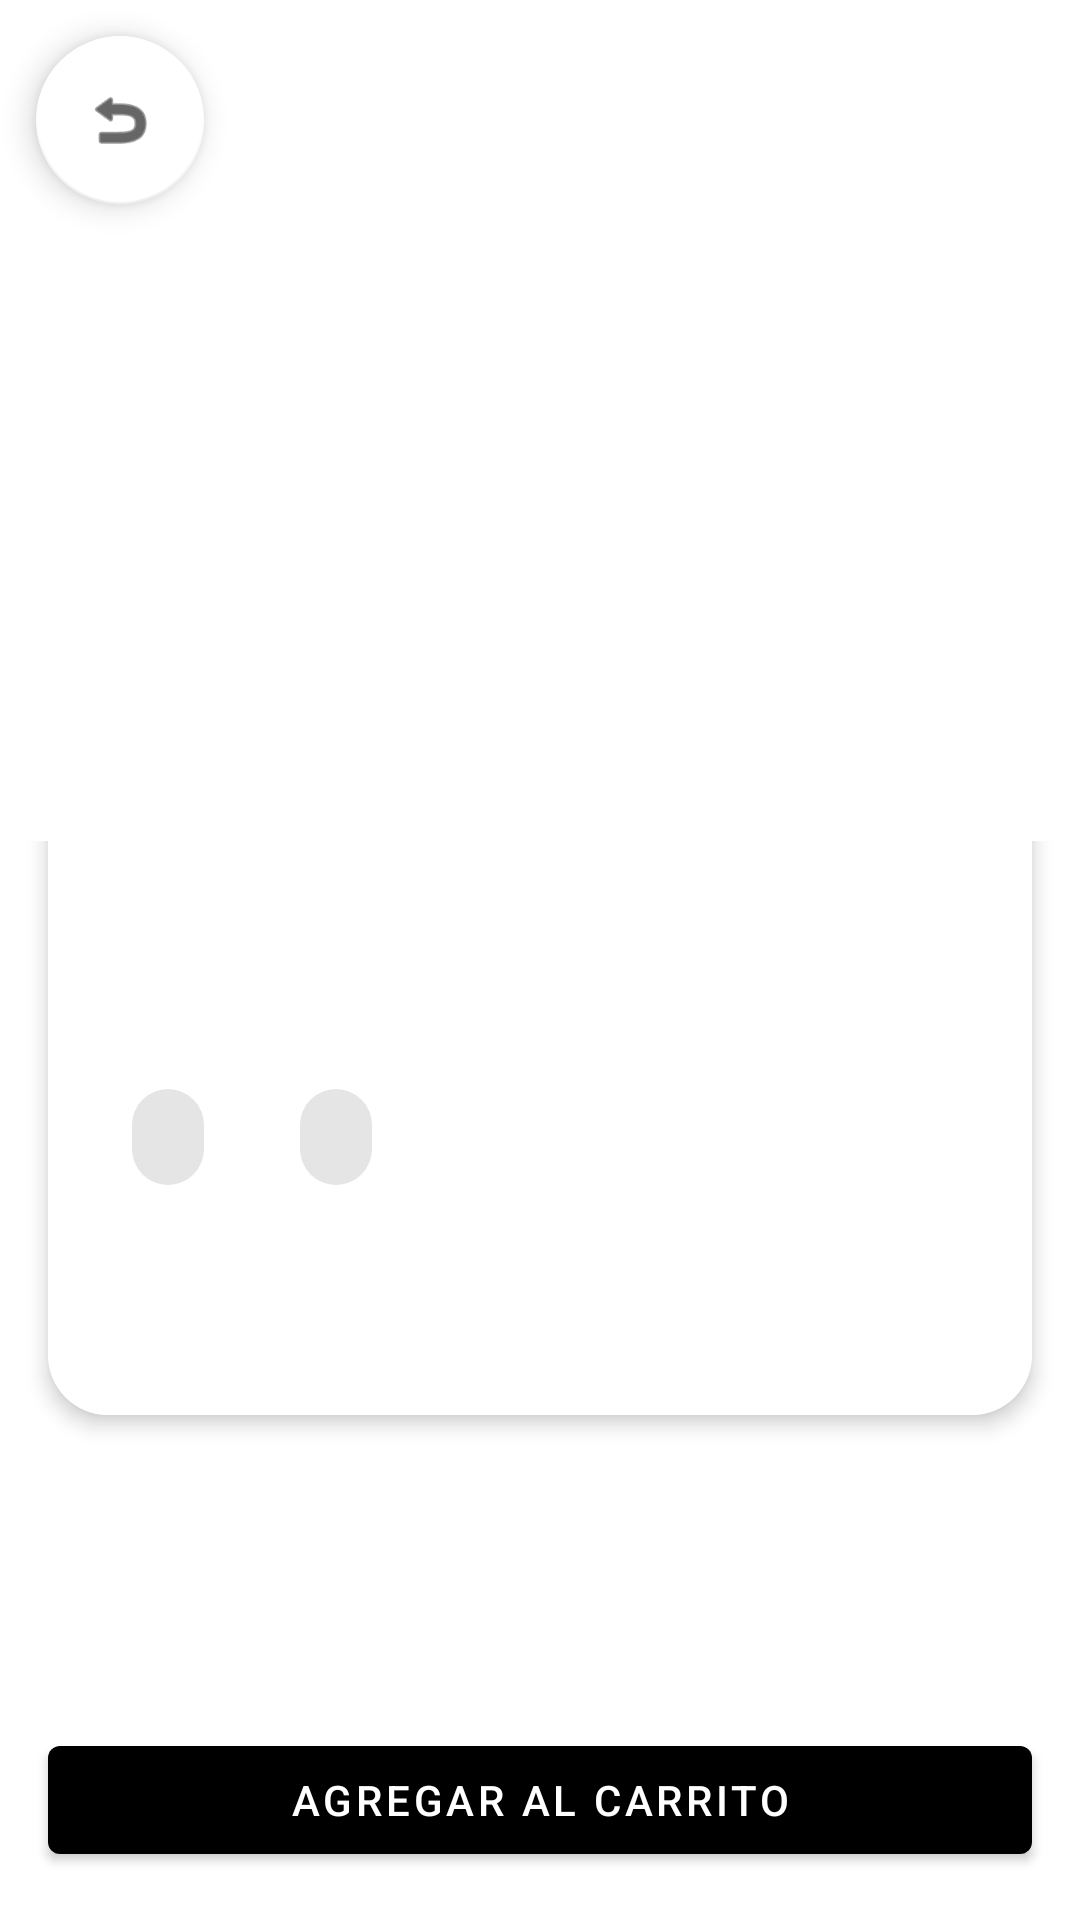

Icon bounding boxes for this 1080*1920 phone screenshot, format (x1, y1, x2, y2):
revert: (36, 47, 147, 204)
